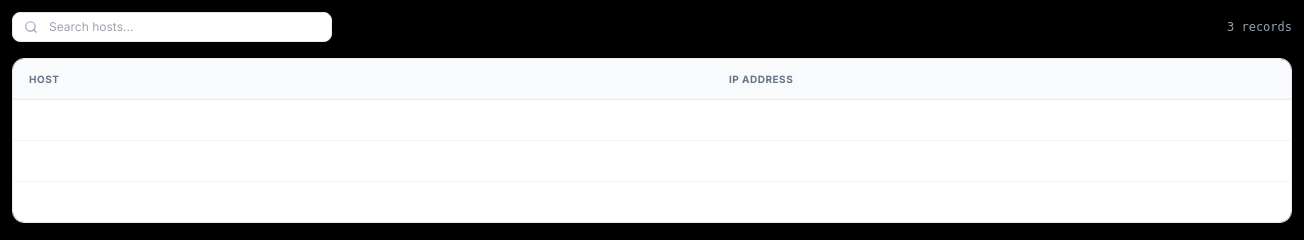
Test: UI Design System Components › renders DataTable and filters records by search keyword
Expected: the text "worker-win-01" is shown, x1=13 y1=100 x2=713 y2=140
Expected: the text "worker-win-02" is shown, x1=13 y1=140 x2=713 y2=182
# Type in search box
Type "db-server" into the field with placeholder "Search hosts..." at (172, 27), box x1=12 y1=12 x2=332 y2=42
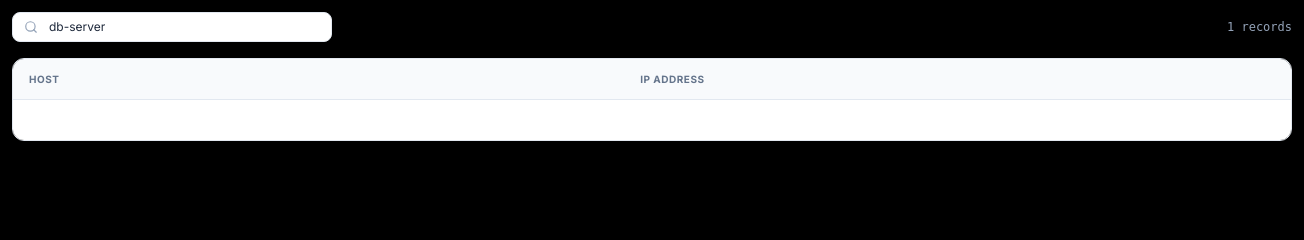
Expected: the text "db-server" is shown, x1=13 y1=100 x2=624 y2=140
Expected: the text "worker-win-01" is gone
